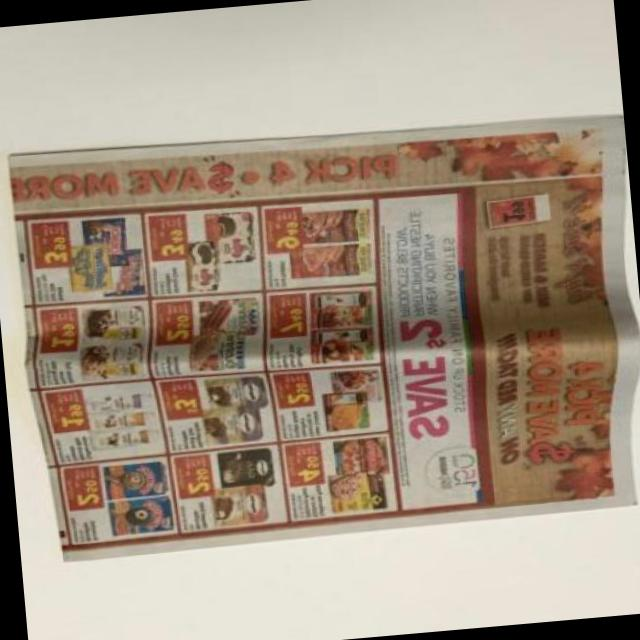cardboard paper: (12, 120, 638, 555)
